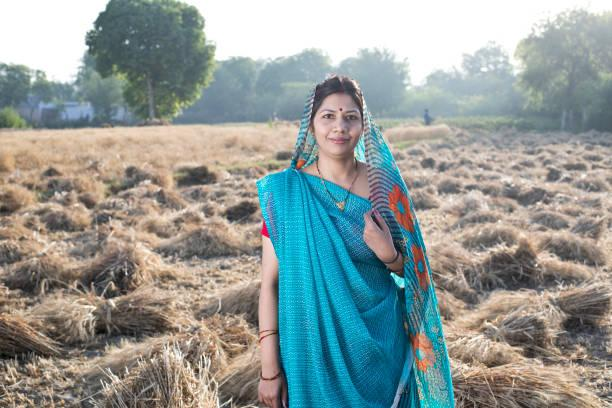Human: (245, 70, 457, 408)
